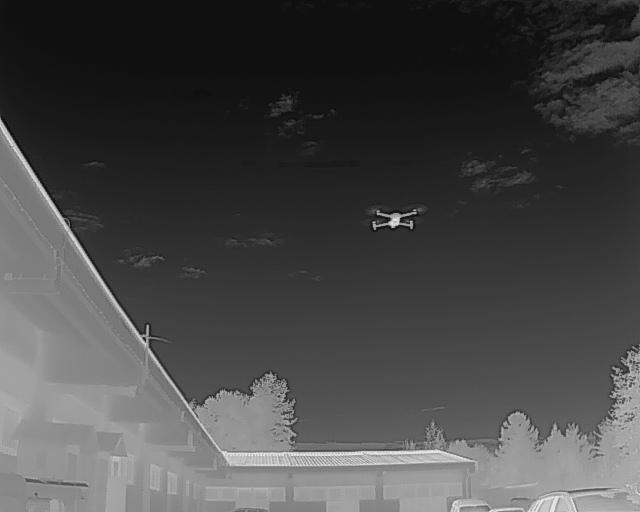drone: (357, 201, 433, 241)
